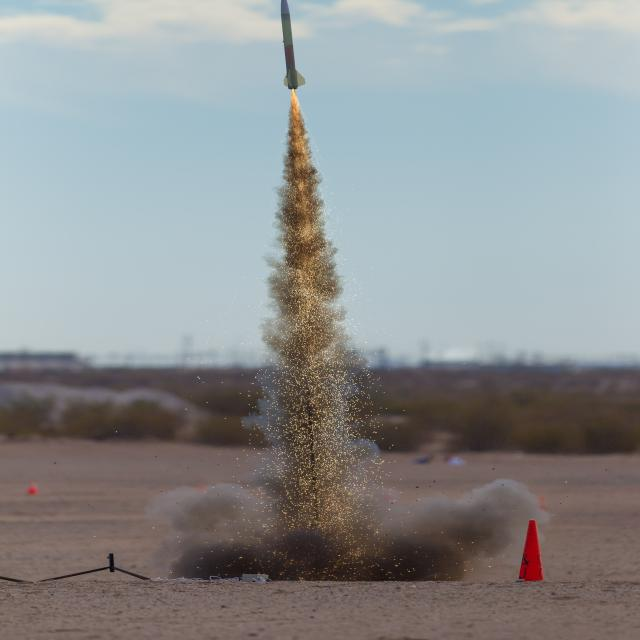Rocket: (278, 0, 306, 91)
